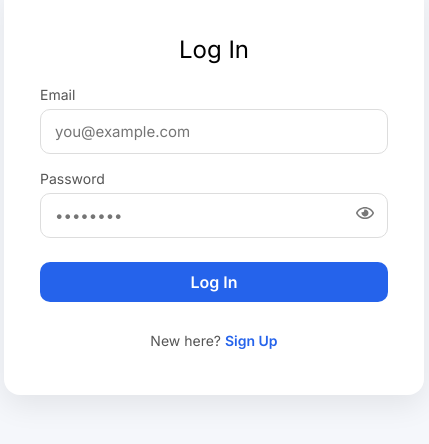
Test: показує помилку при помилці з'єднання
Type "test@test.com" into the field with placeholder "you@example.com" at (214,132), box [40, 109, 388, 154]
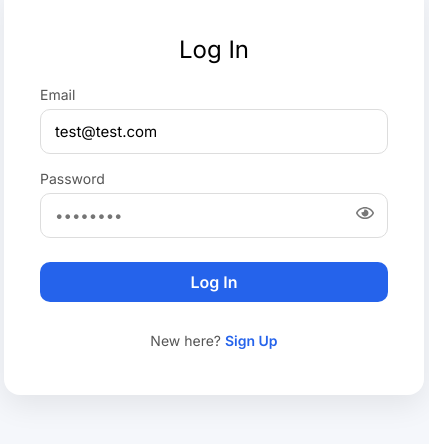
Type "password123" into the password field with placeholder "••••••••" at (214,216), box [40, 193, 388, 238]
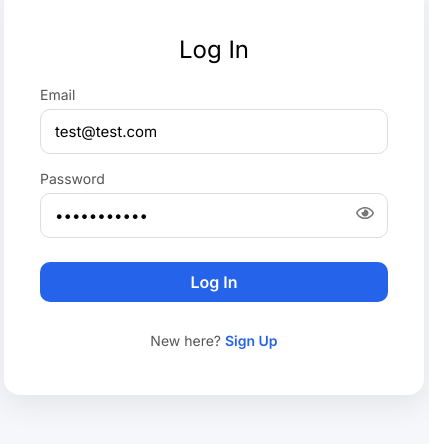
Click the button "Log In" at (214,282), box [40, 262, 388, 302]
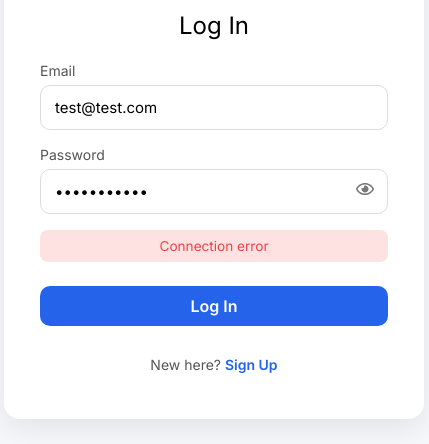
Now the text "Connection error" is shown, box [40, 230, 388, 262]
